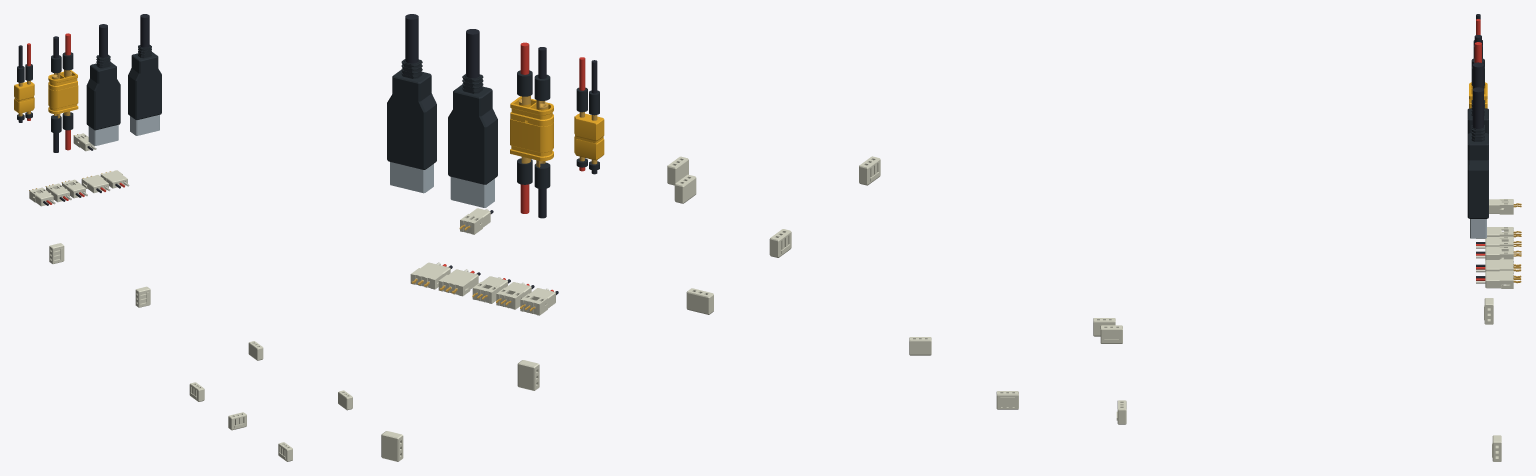
The model's file is connectors.glb.
The picture shows the model from 3 angles, left to right: view 1: azimuth 30°, elevation 25°; view 2: azimuth 150°, elevation 25°; view 3: azimuth 270°, elevation 25°; orthographic projection. The views are drawn at different scales.
Parts seen in each view (by area): view 1: CameraUSB_rubber, ControlUSB_rubber, InputXT60Mate_xt, InputXT30_xt, CameraUSB_steel, ControlUSB_steel, InputXT60_xt, InputXT60_rubber, InputXT60Mate_rubber; view 2: ControlUSB_rubber, CameraUSB_rubber, InputXT60Mate_xt, InputXT30_xt, CameraUSB_steel, ControlUSB_steel, InputXT60_xt, InputXT60Mate_rubber, InputXT60_rubber, InputXT30_rubber, ControlUSB_black, CameraUSB_black (+6 smaller); view 3: ControlUSB_rubber.
Boxes of the visible parts, bbox=[...] form: CameraUSB_rubber: bbox=[86, 54, 120, 130]; ControlUSB_rubber: bbox=[128, 45, 161, 119]; InputXT60Mate_xt: bbox=[48, 85, 78, 114]; InputXT30_xt: bbox=[14, 82, 34, 113]; CameraUSB_steel: bbox=[88, 125, 118, 145]; ControlUSB_steel: bbox=[130, 114, 159, 135]; InputXT60_xt: bbox=[48, 70, 77, 90]; InputXT60_rubber: bbox=[51, 52, 73, 73]; InputXT60Mate_rubber: bbox=[51, 112, 73, 133]; ControlUSB_rubber: bbox=[387, 59, 436, 169]; CameraUSB_rubber: bbox=[448, 74, 497, 184]; InputXT60Mate_xt: bbox=[510, 119, 553, 161]; InputXT30_xt: bbox=[574, 113, 604, 160]; CameraUSB_steel: bbox=[450, 177, 494, 207]; ControlUSB_steel: bbox=[390, 162, 433, 193]; InputXT60_xt: bbox=[510, 96, 553, 126]; InputXT60Mate_rubber: bbox=[517, 158, 550, 188]; InputXT60_rubber: bbox=[517, 70, 550, 100]; InputXT30_rubber: bbox=[576, 87, 599, 170]; ControlUSB_black: bbox=[405, 14, 418, 63]; CameraUSB_black: bbox=[466, 29, 479, 78]; ControlUSB_rubber: bbox=[1467, 125, 1488, 218].
Bounding box in the file's own units: 85.67 × 171 × 260.
